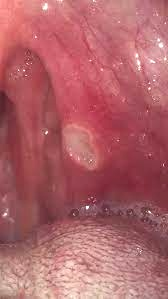Ulcer: (53, 119, 104, 173)
